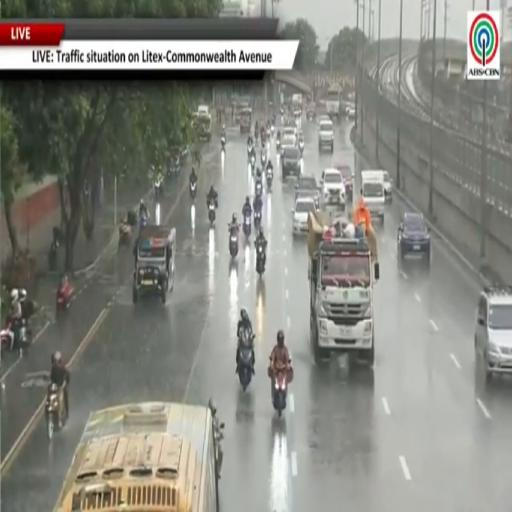bus: (55, 403, 223, 511)
car: (475, 286, 511, 379), (397, 212, 431, 264), (320, 168, 345, 211), (292, 197, 316, 234), (295, 175, 319, 206), (336, 165, 354, 201), (282, 147, 300, 179), (318, 120, 333, 153), (280, 136, 296, 156), (283, 124, 297, 143), (384, 171, 392, 202), (307, 104, 315, 120), (346, 106, 355, 120), (318, 115, 330, 125)
jeepney: (133, 226, 175, 303), (196, 115, 211, 140), (240, 107, 251, 133)
motorcycle: (45, 383, 67, 440), (209, 398, 224, 478), (237, 330, 254, 391), (0, 316, 28, 351), (273, 366, 292, 417), (238, 346, 252, 391), (0, 317, 16, 353), (48, 228, 61, 271), (56, 282, 74, 313), (256, 243, 266, 276), (167, 155, 181, 178), (119, 222, 132, 246), (48, 240, 58, 271), (229, 227, 238, 258), (154, 179, 163, 201), (243, 216, 251, 237), (209, 201, 215, 227), (266, 168, 273, 189), (139, 215, 148, 231), (254, 210, 261, 230), (190, 182, 197, 199), (255, 181, 262, 197), (298, 140, 304, 157), (250, 154, 255, 172), (261, 150, 266, 167), (221, 136, 226, 152), (248, 144, 253, 157), (276, 139, 281, 152), (271, 125, 275, 137), (267, 128, 270, 140)
truck: (308, 212, 379, 365), (195, 105, 211, 140), (326, 86, 341, 119), (291, 93, 303, 117)
